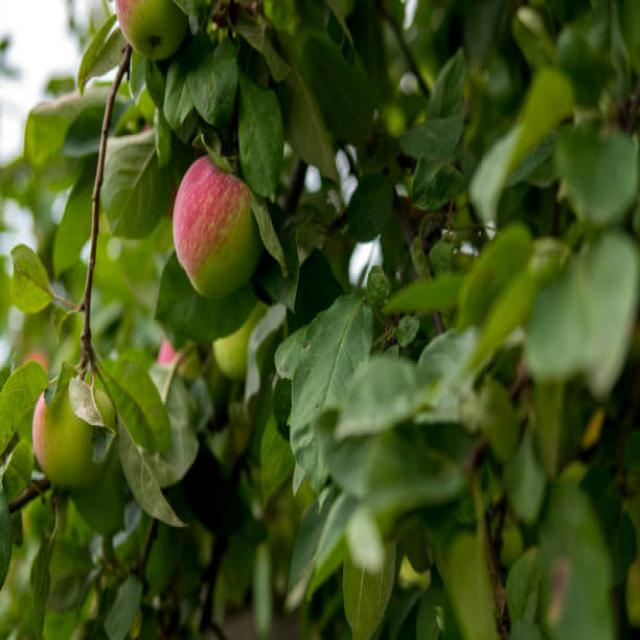Unripe: (172, 157, 266, 302)
